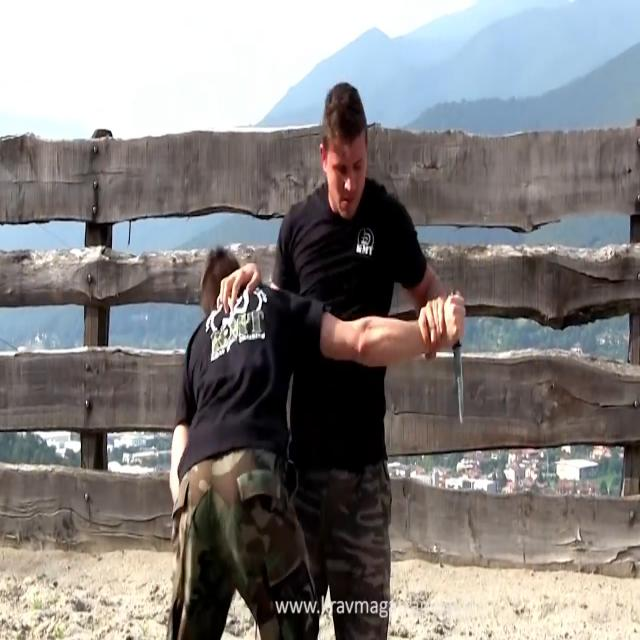knife: (450, 339, 470, 428)
